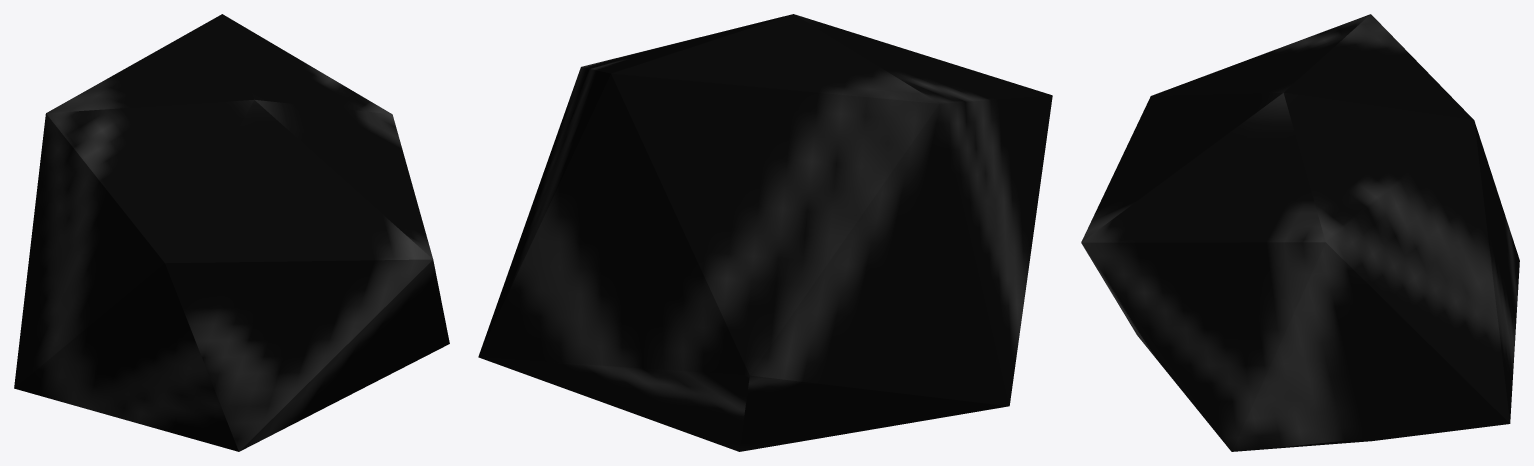
File: Coal.fbx
3 renders of one model, left to right at view 1: azimuth 30°, elevation 25°; view 2: azimuth 150°, elevation 25°; view 3: azimuth 270°, elevation 25°, orthographic. The views are drawn at different scales.
Parts seen in each view (by area): view 1: Coal; view 2: Coal; view 3: Coal.
Part boxes in pixels (x1,y1,x2,y2): Coal: (14, 14, 449, 451); Coal: (478, 14, 1052, 451); Coal: (1081, 14, 1519, 451).
Size of the model in its own units: 0.3614 by 0.3089 by 0.3508.
